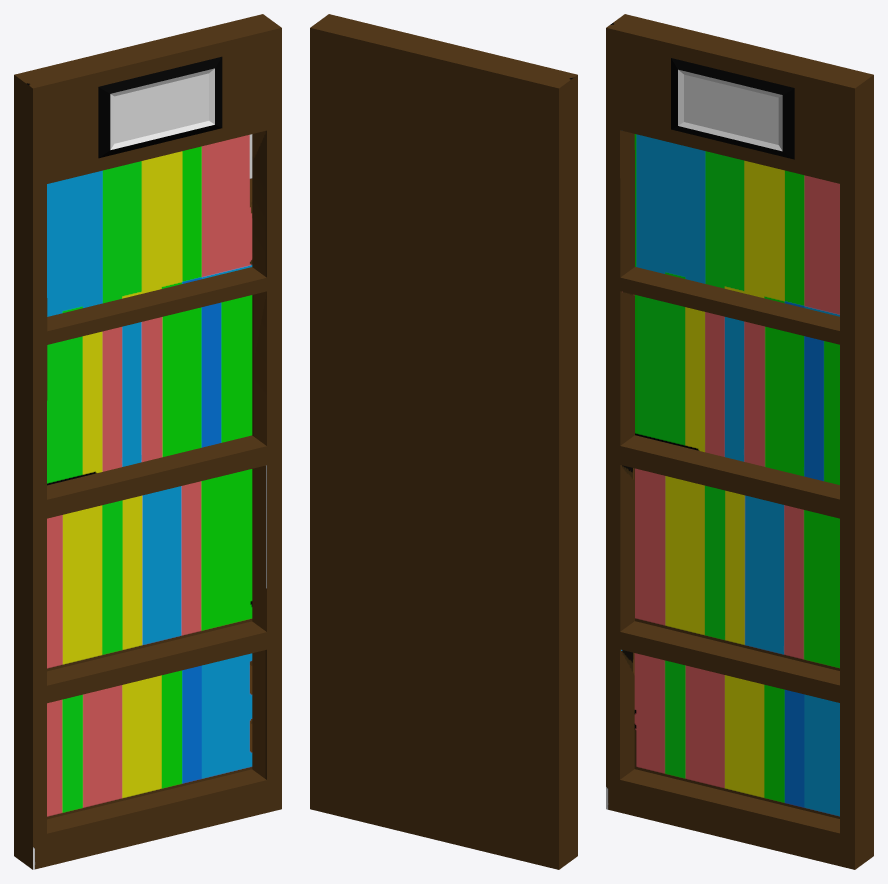
File: wallBookshelf.fbx
The picture shows the model from 3 angles, left to right: view 1: azimuth 30°, elevation 25°; view 2: azimuth 150°, elevation 25°; view 3: azimuth 330°, elevation 25°; orthographic projection.
Parts seen in each view (by area): view 1: Bookshelf; view 2: Bookshelf; view 3: Bookshelf.
Part boxes in pixels (x1,y1,x2,y2): Bookshelf: (14,14,281,869); Bookshelf: (310,14,577,869); Bookshelf: (606,14,873,869).
Bounding box in the file's own units: 1 × 3 × 0.15.
Materials: 1 (1 with a texture image).
